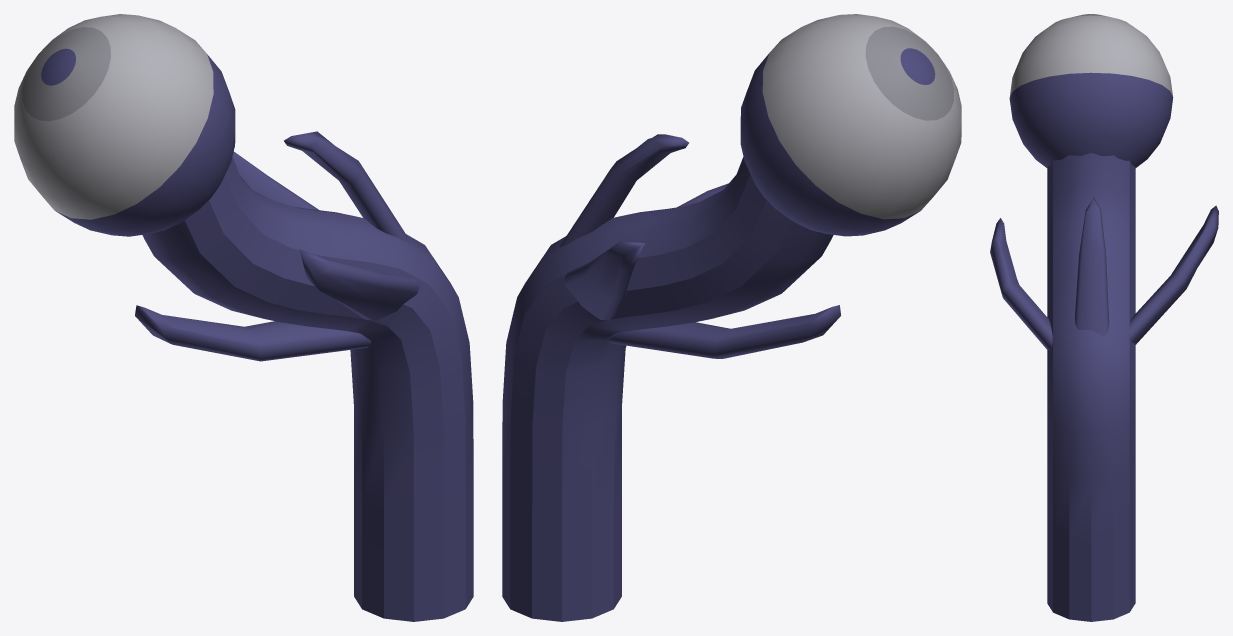
File: eyeplant1.fbx
3 views of the same model, side by side, from view 1: azimuth 30°, elevation 25°; view 2: azimuth 150°, elevation 25°; view 3: azimuth 270°, elevation 25° (orthographic). The views are drawn at different scales.
Parts seen in each view (by area): view 1: eyeball_plant; view 2: eyeball_plant; view 3: eyeball_plant.
Part boxes in pixels (<box>): eyeball_plant: <box>14,14,473,621</box>; eyeball_plant: <box>502,14,961,621</box>; eyeball_plant: <box>990,14,1218,621</box>.
Bounding box in the file's own units: 4.38 × 6.16 × 2.68.
